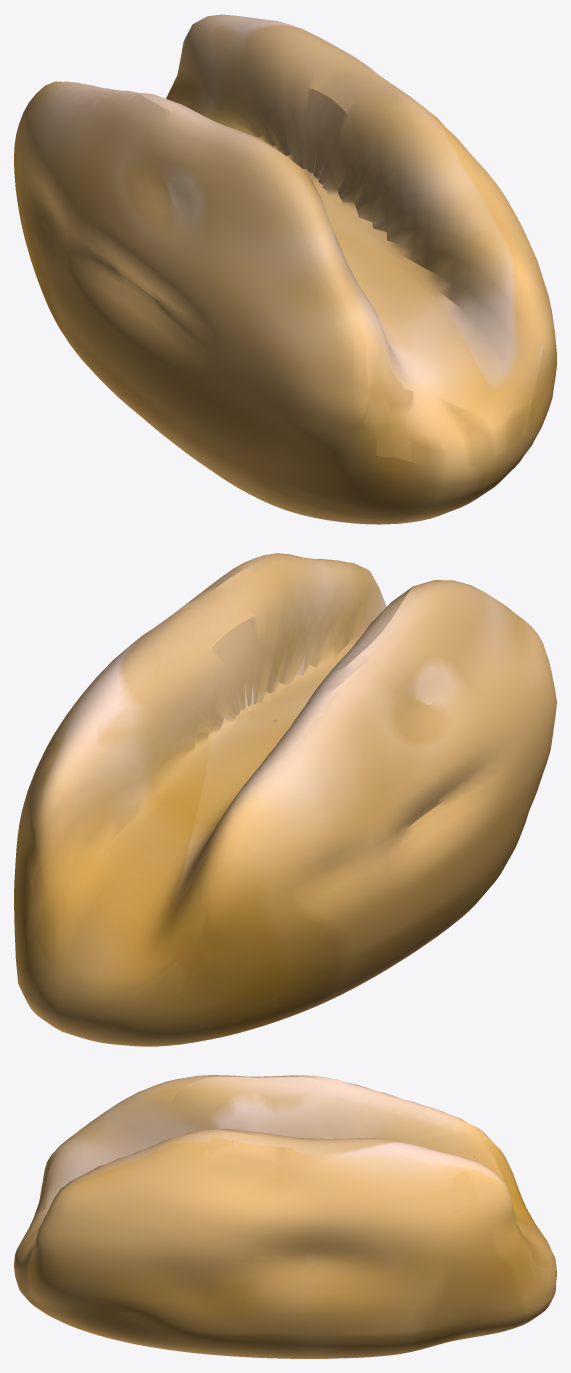
File: Hotdog_Bun.fbx
The picture shows the model from 3 angles, top to bottom: view 1: azimuth 30°, elevation 25°; view 2: azimuth 150°, elevation 25°; view 3: azimuth 270°, elevation 25°; orthographic projection. The views are drawn at different scales.
Parts seen in each view (by area): view 1: Bun; view 2: Bun; view 3: Bun.
Boxes of the visible parts, bbox=[...] form: Bun: bbox=[14, 14, 556, 524]; Bun: bbox=[14, 553, 556, 1046]; Bun: bbox=[14, 1075, 556, 1358].
Size of the model in its own units: 180 by 181 by 372.
1 material, 1 textured.
